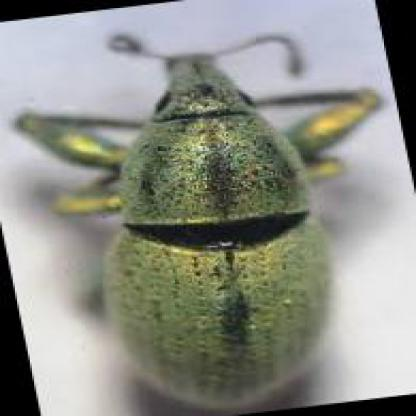ash weevil: (21, 49, 388, 414)
